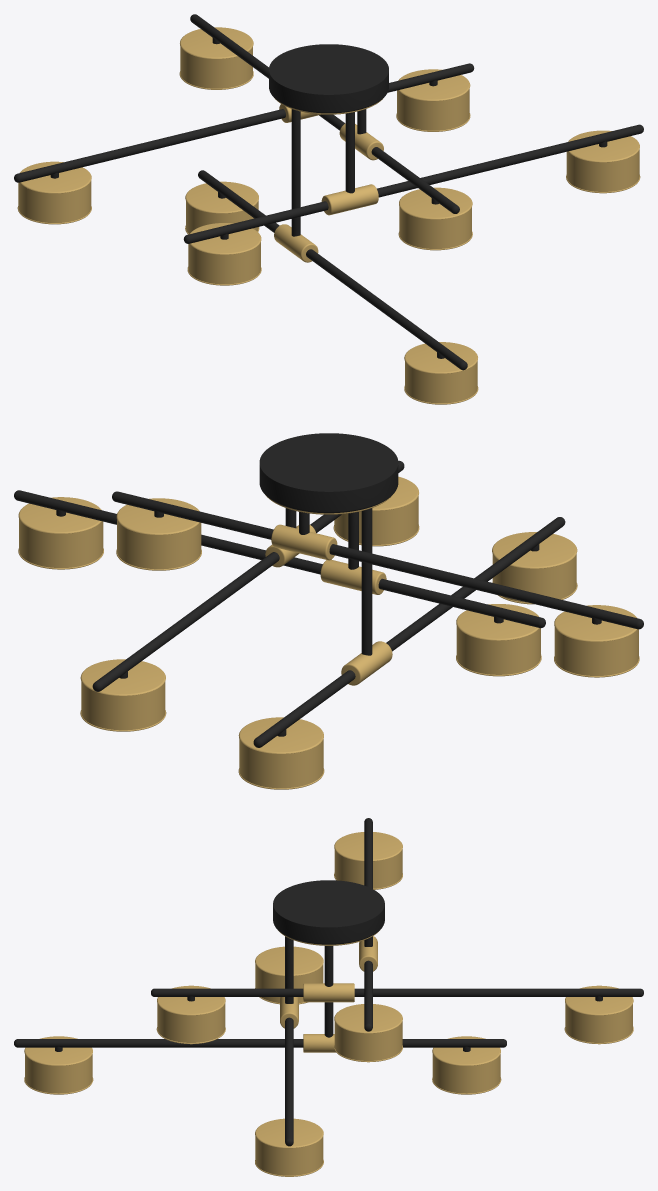
3 renders of one model, top to bottom at view 1: azimuth 30°, elevation 25°; view 2: azimuth 150°, elevation 25°; view 3: azimuth 270°, elevation 25°, orthographic. The views are drawn at different scales.
Parts seen in each view (by area): view 1: gold, frame; view 2: gold, frame; view 3: gold, frame.
Boxes of the visible parts, x1=… form: gold: x1=17, y1=27, x2=640, y2=404; frame: x1=14, y1=14, x2=643, y2=370; gold: x1=18, y1=476, x2=639, y2=789; frame: x1=14, y1=433, x2=643, y2=747; gold: x1=24, y1=832, x2=633, y2=1176; frame: x1=14, y1=818, x2=643, y2=1146.
Bounding box in the file's own units: 0.732 × 0.2453 × 0.732.
